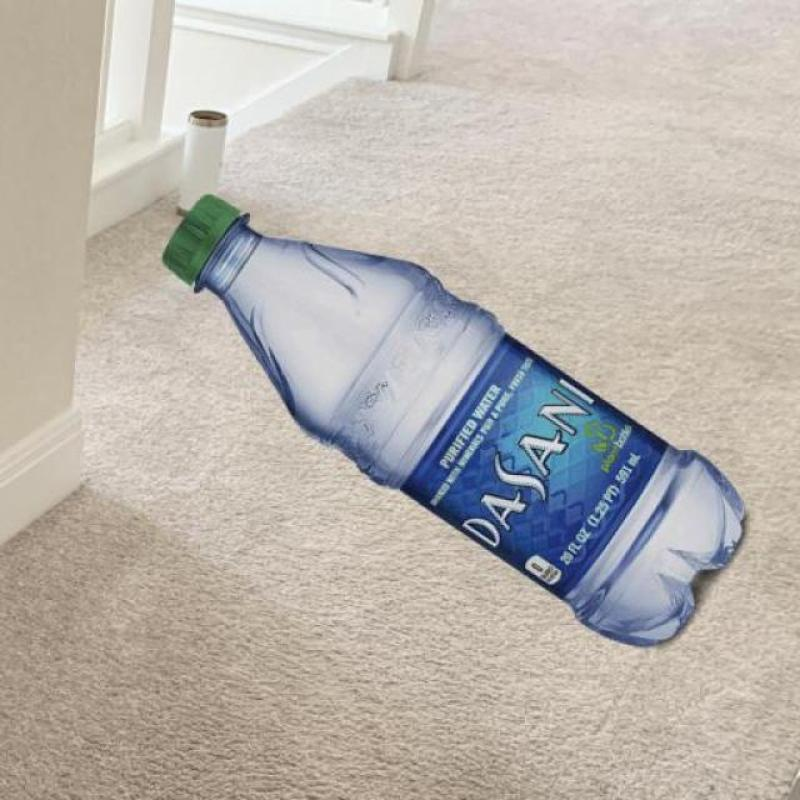botella: (162, 194, 748, 649)
